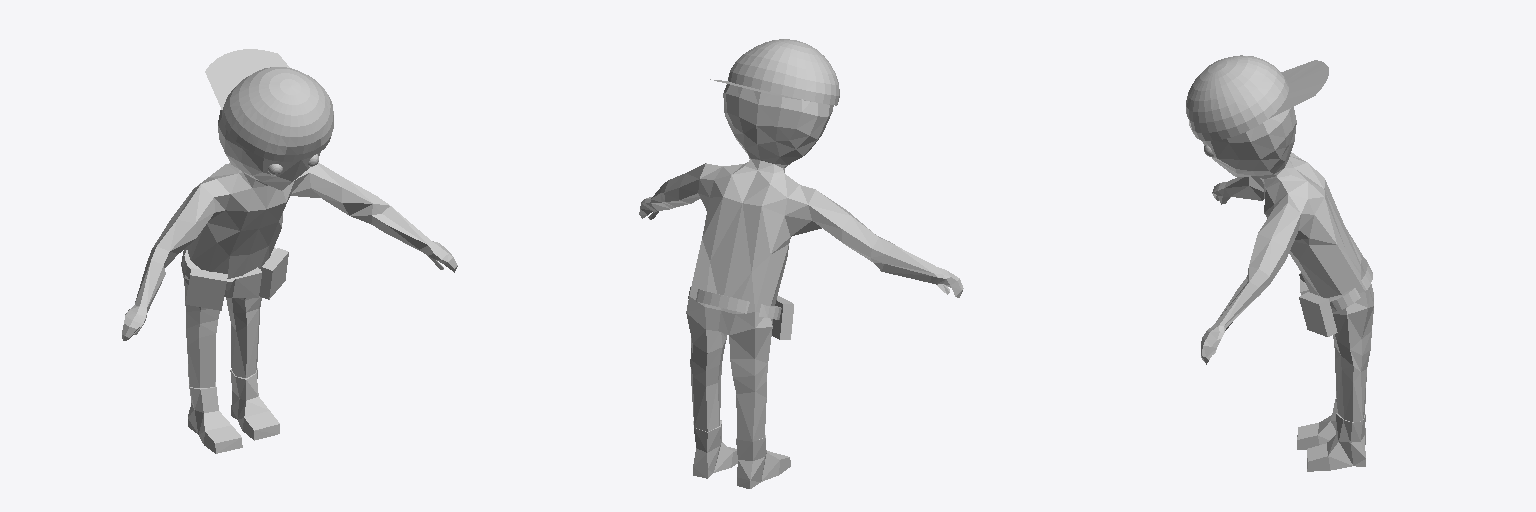
The model's file is Main_Character_Repair_14.obj.
3 renders of one model, left to right at view 1: azimuth 30°, elevation 25°; view 2: azimuth 150°, elevation 25°; view 3: azimuth 270°, elevation 25°, orthographic.
Visible parts, largest first — view 1: Main_Character_Test.003_Main_Character_Test.004; view 2: Main_Character_Test.003_Main_Character_Test.004; view 3: Main_Character_Test.003_Main_Character_Test.004.
Part boxes in pixels (x1,y1,x2,y2): Main_Character_Test.003_Main_Character_Test.004: (122,49,457,453); Main_Character_Test.003_Main_Character_Test.004: (639,39,963,488); Main_Character_Test.003_Main_Character_Test.004: (1186,55,1373,471).
Size of the model in its own units: 3.28 by 3.77 by 1.63.